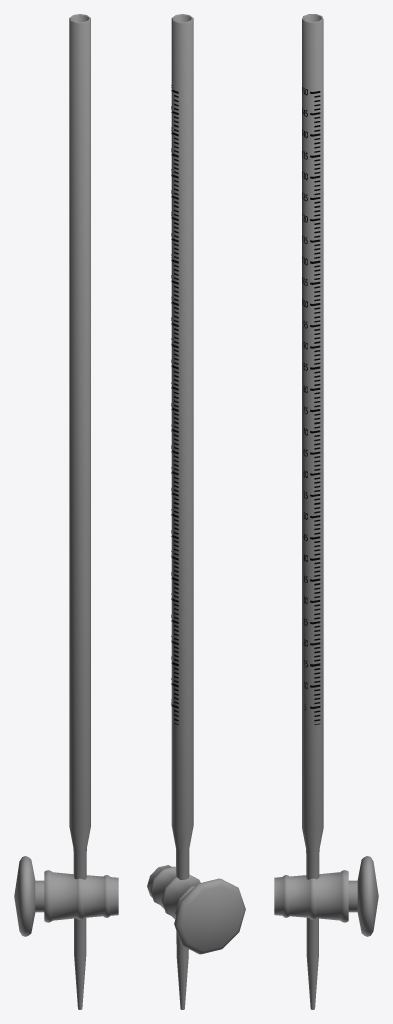
The model's file is SM_酸式滴定管.fbx.
The picture shows the model from 3 angles, left to right: view 1: azimuth 90°, elevation 25°; view 2: azimuth 210°, elevation 25°; view 3: azimuth 270°, elevation 25°; orthographic projection.
Parts seen in each view (by area): view 1: SM_酸式滴定管; view 2: SM_酸式滴定管; view 3: SM_酸式滴定管.
Part boxes in pixels (left/top/right/bottom): SM_酸式滴定管: left=14, top=14, right=118, bottom=1009; SM_酸式滴定管: left=147, top=14, right=245, bottom=1009; SM_酸式滴定管: left=274, top=14, right=378, bottom=1009.
Bounding box in the file's own units: 0.0535 × 0.7167 × 0.0686.
